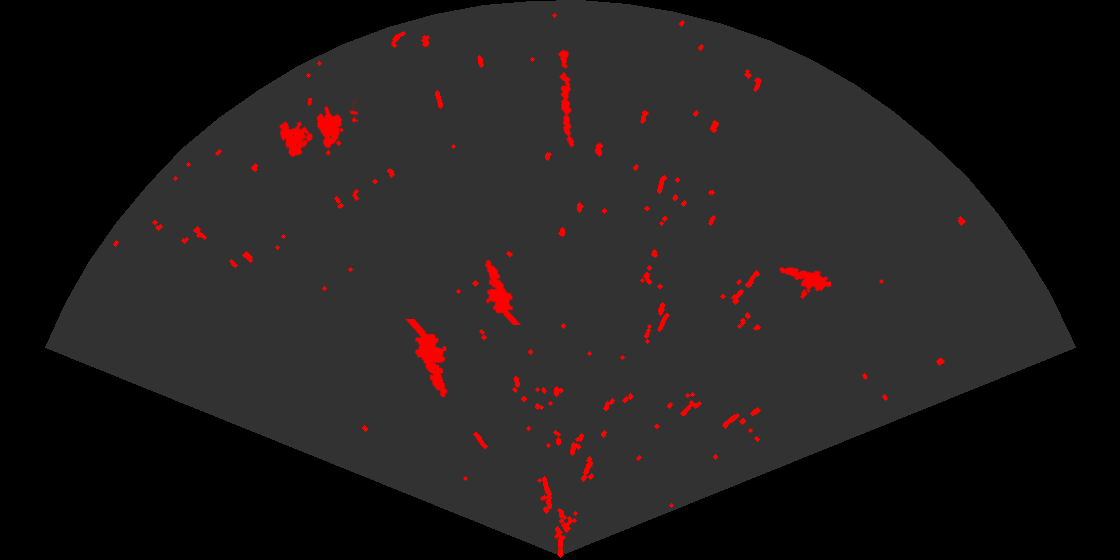cage: (278, 98, 358, 158)
chain: (556, 49, 576, 149)
frogman: (404, 319, 449, 399), (483, 258, 523, 325), (778, 265, 831, 295)
